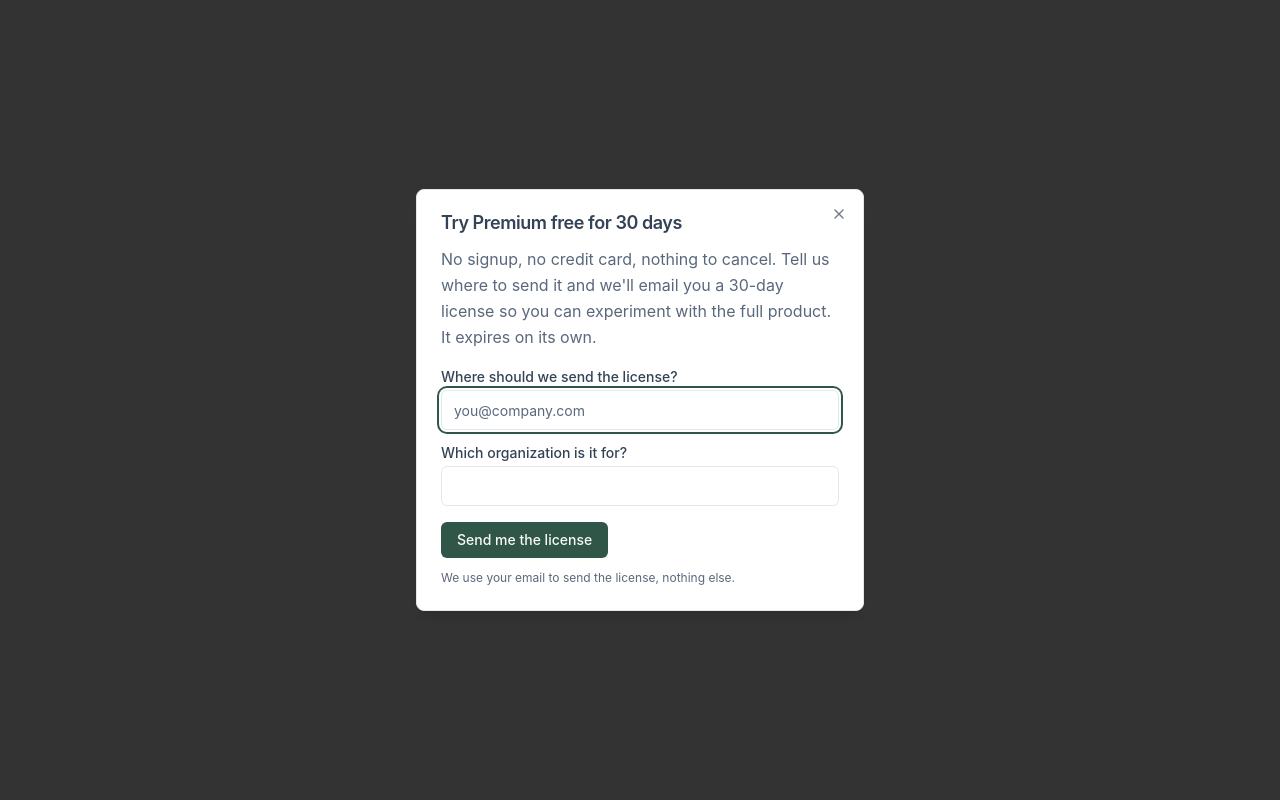
the trial request dialog › submits email and organization, then confirms a human sends it
In the field labelled "Where should we send the license?": (640, 410) [441,390,839,430], type "po@company.com"
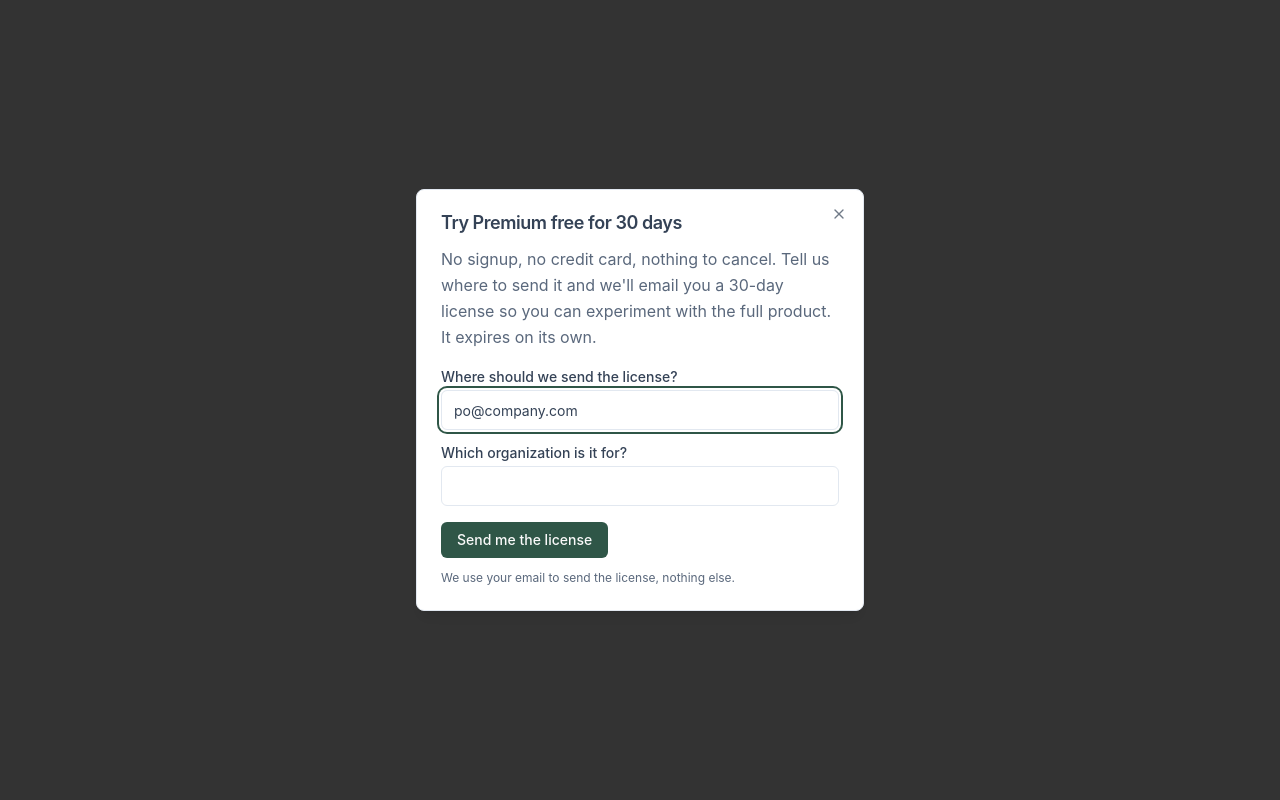
In the field labelled "Which organization is it for?": (640, 486) [441,466,839,506], type "ACME"
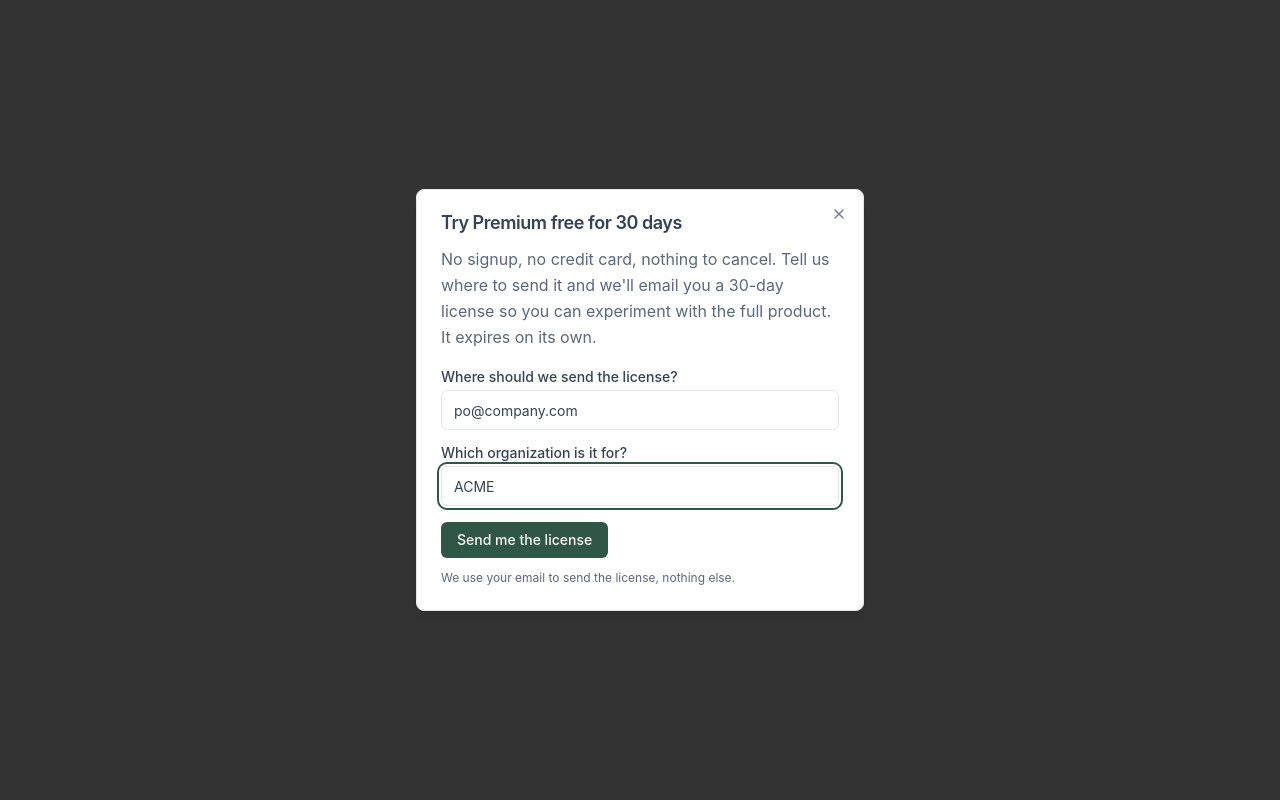
Click the button "Send me the license": (525, 540) [441,522,608,558]
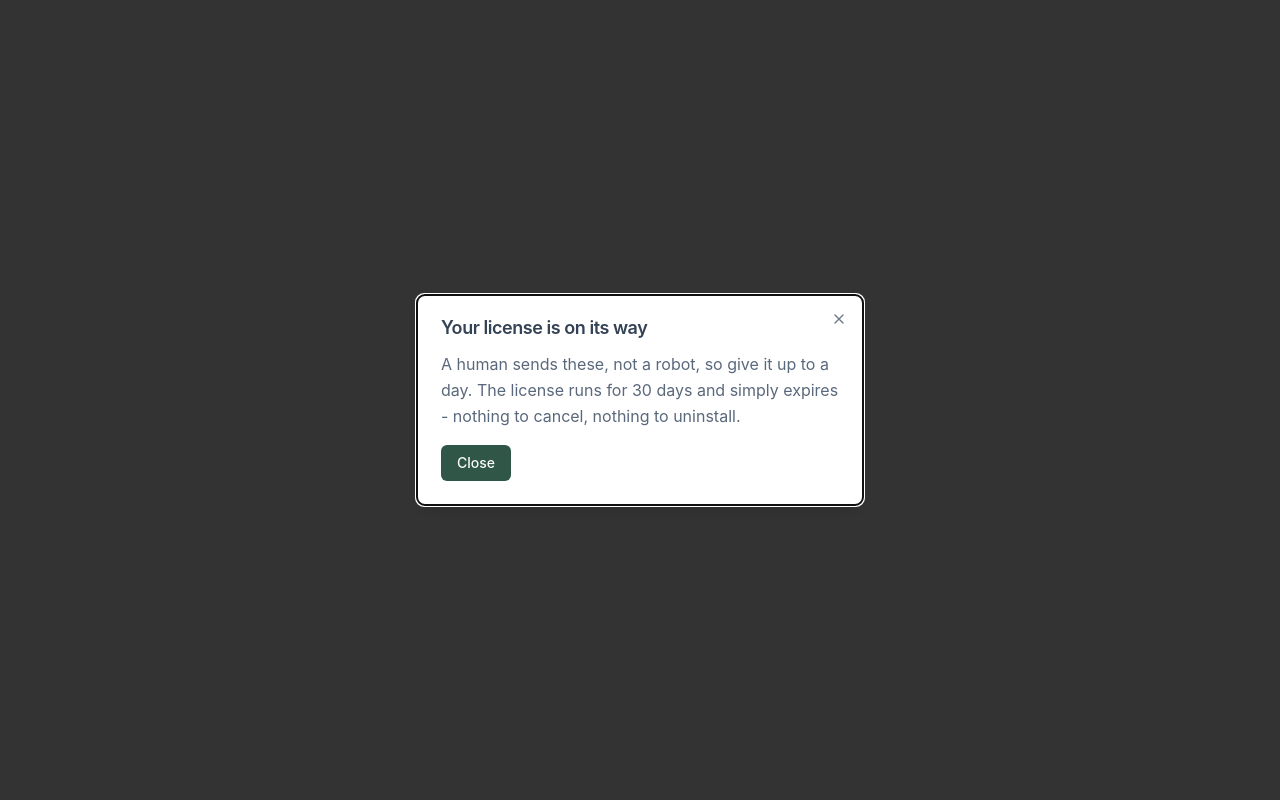
expect the element with test id "trial-done" shows "A human sends these": met, box [441,354,838,426]
expect the element with test id "trial-done" shows "nothing to cancel": met, box [441,354,838,426]
